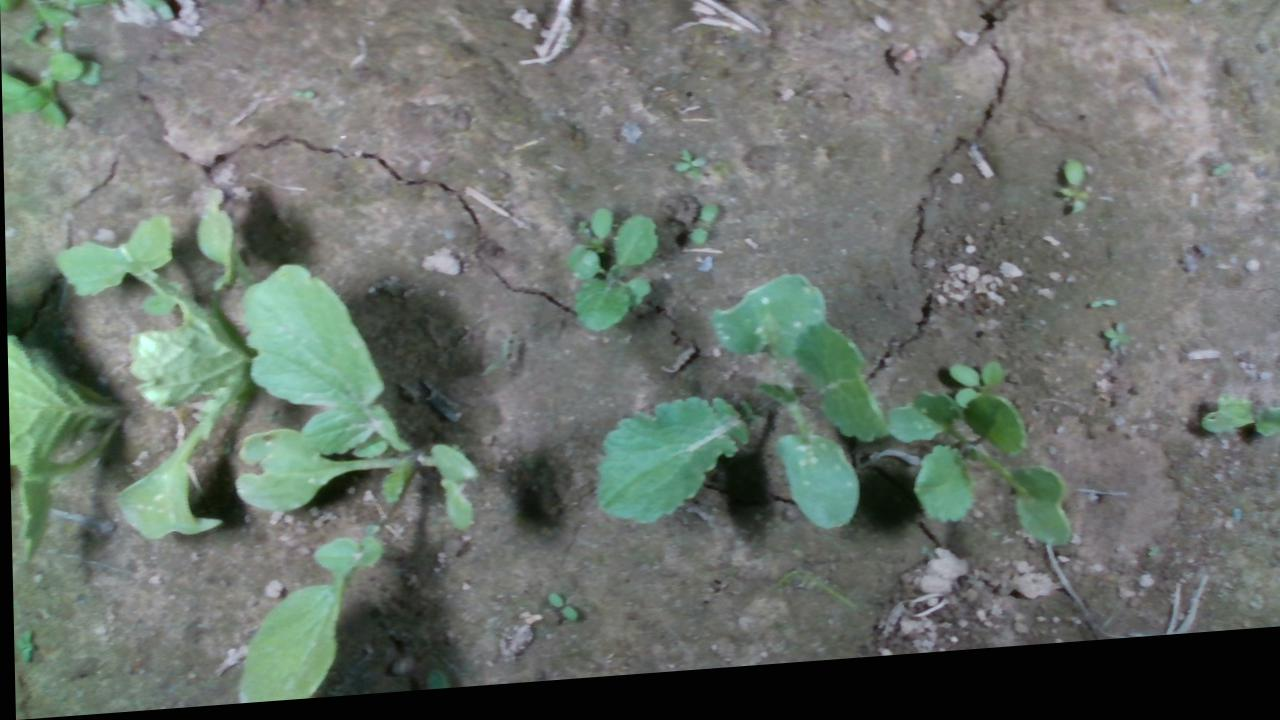weed: (1051, 169, 1091, 234), (686, 209, 718, 255), (669, 155, 706, 190), (540, 598, 576, 631), (1097, 336, 1130, 367), (12, 626, 33, 665), (1083, 311, 1115, 326)
